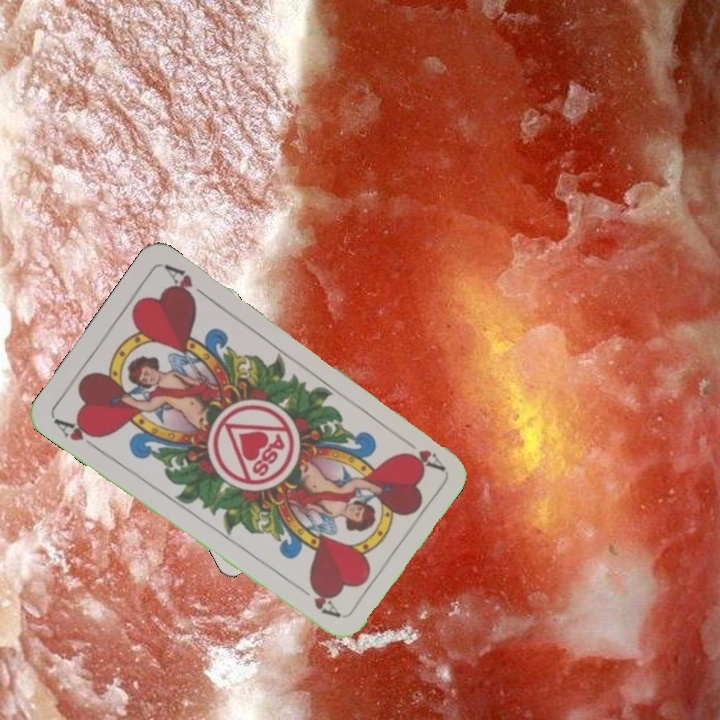HA: (394, 431, 446, 473), (50, 414, 103, 454)
